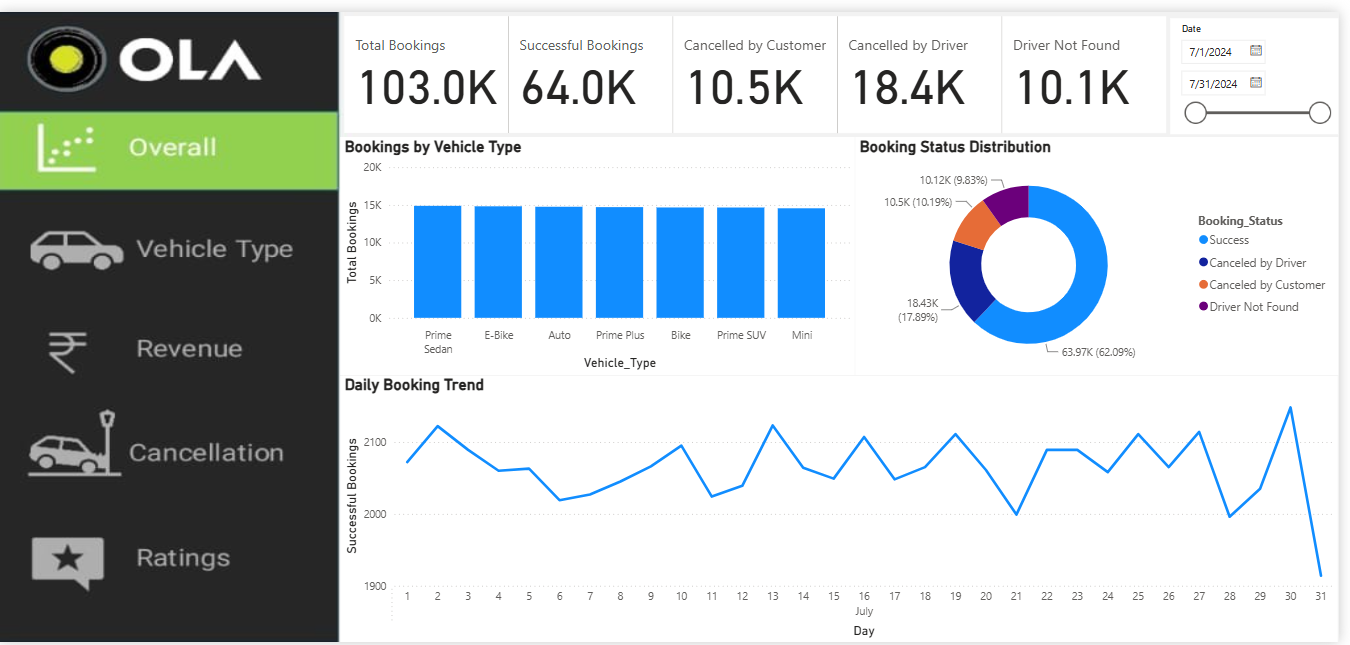

This screenshot's page, from the dashboard's own definition file:
{"tool":"powerbi","page":{"name":"Overall ","canvas":[1531,720],"ordinal":0},"visuals":[{"type":"actionButton","box":[0,223.2,324.5,90.5],"z":0},{"type":"actionButton","box":[1.2,223.2,324.5,90.5],"z":1000},{"type":"actionButton","box":[0,231.6,324.5,90.5],"z":2000},{"type":"actionButton","box":[0,342.6,324.5,91.7],"z":3000},{"type":"actionButton","box":[0,450,323.3,91.7],"z":4000},{"type":"actionButton","box":[0,577.9,325.7,90.5],"z":5000},{"type":"cardVisual","fields":{"Data":["Bookings_Cleaned.Total Bookings","Bookings_Cleaned.Successful Bookings","Bookings_Cleaned.Cancelled by Customer","Bookings_Cleaned.Cancelled by Driver","Bookings_Cleaned.Driver Not Found"]},"box":[390,0,950,143.3],"z":6000},{"type":"lineChart","title":"Daily Booking Trend","fields":{"Category":["Bookings_Cleaned.Date.Variation.Date Hierarchy.Month","Bookings_Cleaned.Date.Variation.Date Hierarchy.Day"],"Y":["Bookings_Cleaned.Successful Bookings"]},"box":[390,415,1140,305],"z":7000},{"type":"donutChart","title":"Booking Status Distribution","fields":{"Category":["Bookings_Cleaned.Booking_Status"],"Y":["CountNonNull(Bookings_Cleaned.Booking_ID)"]},"box":[978.3,143.3,551.7,271.7],"z":8000},{"type":"clusteredColumnChart","title":"Bookings by Vehicle Type","fields":{"Category":["Bookings_Cleaned.Vehicle_Type"],"Y":["Bookings_Cleaned.Total Bookings"]},"box":[390,143.3,588.3,271.7],"z":9000},{"type":"slicer","fields":{"Values":["Bookings_Cleaned.Date"]},"box":[1338.3,6.7,191.7,131.7],"z":9001}]}

Visuals, with their boxes in screenshot pixels (x1, y1, x2, y2), scaled from the page's 1531x720 canvas onto the 1350x645 screenshot:
actionButton: 0/200/286/281
actionButton: 1/200/287/281
actionButton: 0/207/286/289
actionButton: 0/307/286/389
actionButton: 0/403/285/485
actionButton: 0/518/287/599
cardVisual - Bookings_Cleaned.Total Bookings x Bookings_Cleaned.Successful Bookings: 344/0/1182/128
"Daily Booking Trend" lineChart: 344/372/1349/644
"Booking Status Distribution" donutChart: 863/128/1349/372
"Bookings by Vehicle Type" clusteredColumnChart: 344/128/863/372
slicer - Bookings_Cleaned.Date: 1180/6/1349/124
